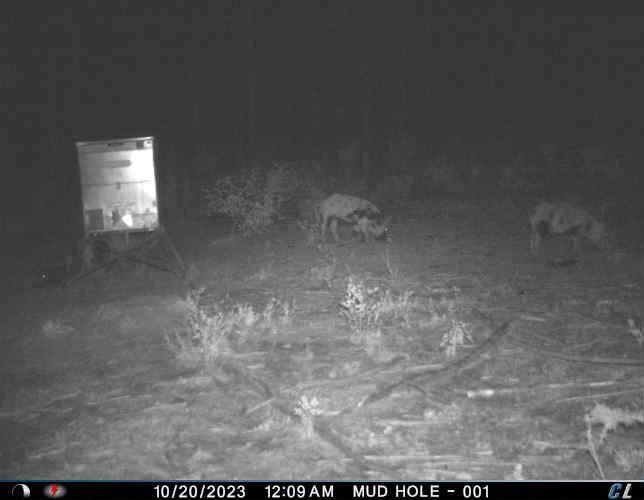Hog: (525, 195, 610, 258), (310, 191, 393, 246), (27, 248, 82, 290)
